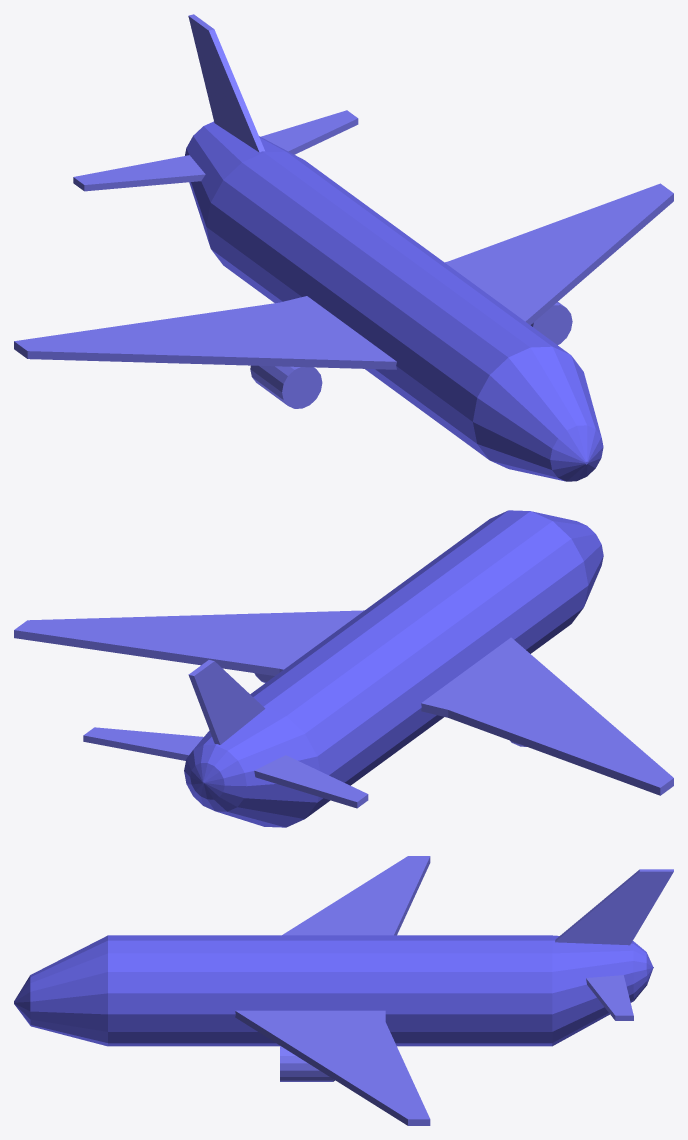
The model's file is jet.glb.
3 views of the same model, one above another, from view 1: azimuth 30°, elevation 25°; view 2: azimuth 150°, elevation 25°; view 3: azimuth 270°, elevation 25° (orthographic). The views are drawn at different scales.
Parts seen in each view (by area): view 1: fusilage, rightwing, leftwing, tail, rightrear, leftrear; view 2: fusilage, rightwing, leftwing, tail, rightrear, leftrear; view 3: fusilage, leftwing, rightwing, tail, leftrear.
Part boxes in pixels (left/top/right/bottom): fusilage: left=185, top=121, right=603, bottom=481; rightwing: left=14, top=296, right=396, bottom=408; leftwing: left=445, top=183, right=673, bottom=344; tail: left=188, top=14, right=264, bottom=152; rightrear: left=73, top=155, right=205, bottom=191; leftrear: left=260, top=110, right=358, bottom=154; fusilage: left=184, top=510, right=603, bottom=827; rightwing: left=421, top=637, right=673, bottom=795; leftwing: left=14, top=610, right=364, bottom=682; tail: left=188, top=660, right=265, bottom=744; rightrear: left=254, top=755, right=368, bottom=808; leftrear: left=83, top=727, right=203, bottom=760; fusilage: left=14, top=935, right=653, bottom=1046; leftwing: left=235, top=1010, right=430, bottom=1125; rightwing: left=282, top=856, right=430, bottom=935; tail: left=555, top=869, right=673, bottom=945; leftrear: left=586, top=975, right=633, bottom=1020.
Size of the model in its own units: 11.21 by 3.39 by 11.88.
